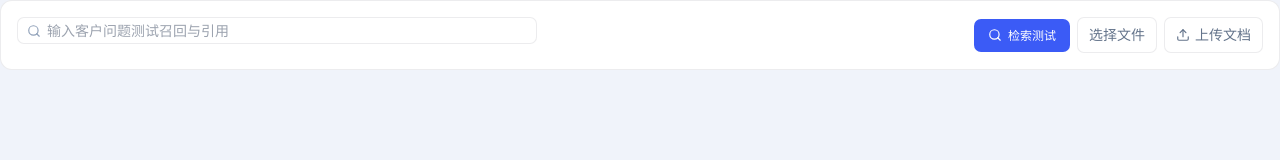
it: dashboard operation action components › retrieves knowledge test results with the entered query and default topK
This screenshot has width=1280, height=160.
In the field: (277, 30) [17,17,537,44], type "How do I update billing?"
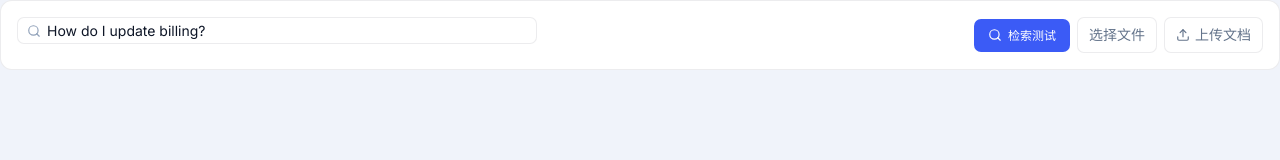
Click the button "检索测试": (1022, 35) [974,19,1070,52]
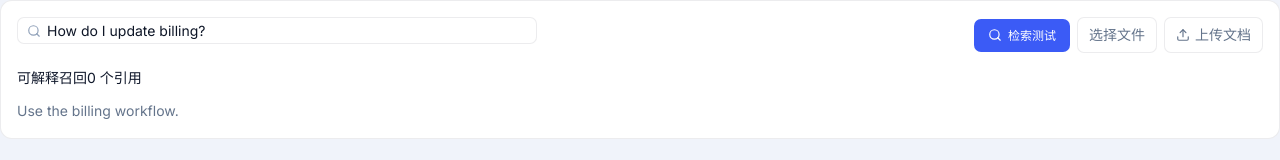
Expected: the text "Use the billing workflow." is shown, [17,102,179,119]
